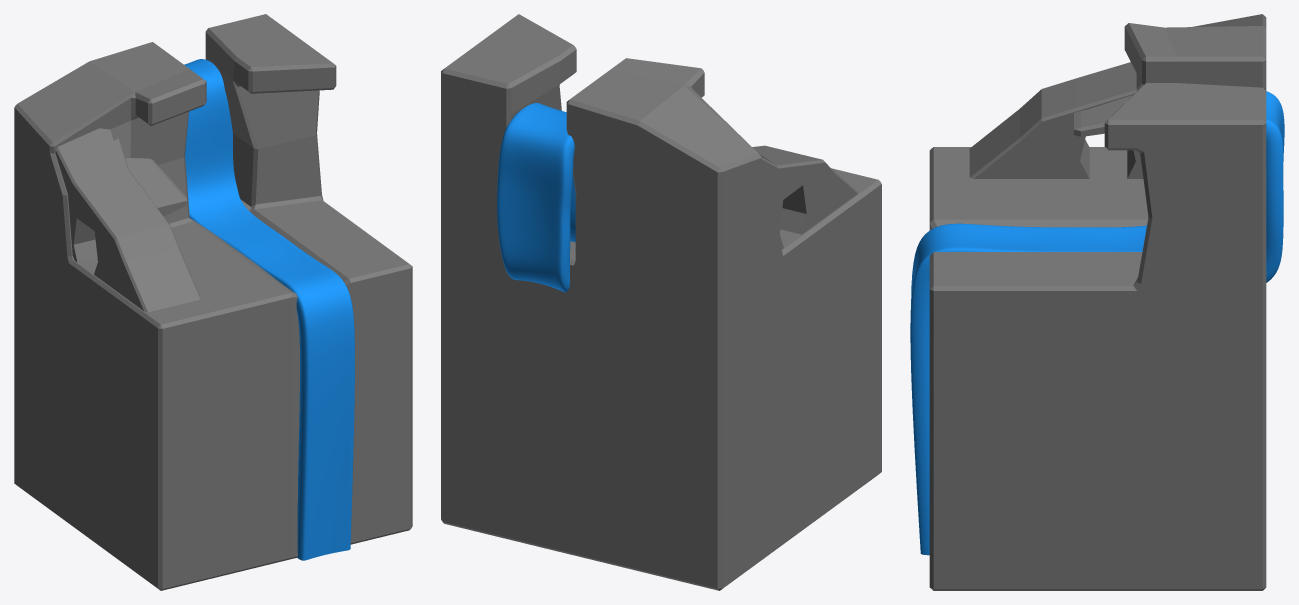
Rendered from FinalDiorama1.fbx.
3 views of the same model, side by side, from view 1: azimuth 30°, elevation 25°; view 2: azimuth 150°, elevation 25°; view 3: azimuth 270°, elevation 25° (orthographic). The views are drawn at different scales.
Visible parts, largest first — view 1: DioramaFinal.001, Cascada, SlopeFinal, Platform; view 2: DioramaFinal.001, Cascada, SlopeFinal; view 3: DioramaFinal.001, Cascada, SlopeFinal, Platform.
Part boxes in pixels (x1,y1,x2,y2): DioramaFinal.001: (14,14,412,590); Cascada: (184,59,354,560); SlopeFinal: (55,128,200,312); Platform: (125,157,186,216); DioramaFinal.001: (441,14,881,590); Cascada: (497,103,575,292); SlopeFinal: (752,145,857,249); DioramaFinal.001: (929,14,1266,590); Cascada: (910,91,1284,555); SlopeFinal: (969,62,1143,178); Platform: (1074,95,1132,136).
Size of the model in its own units: 322 by 498 by 358.
